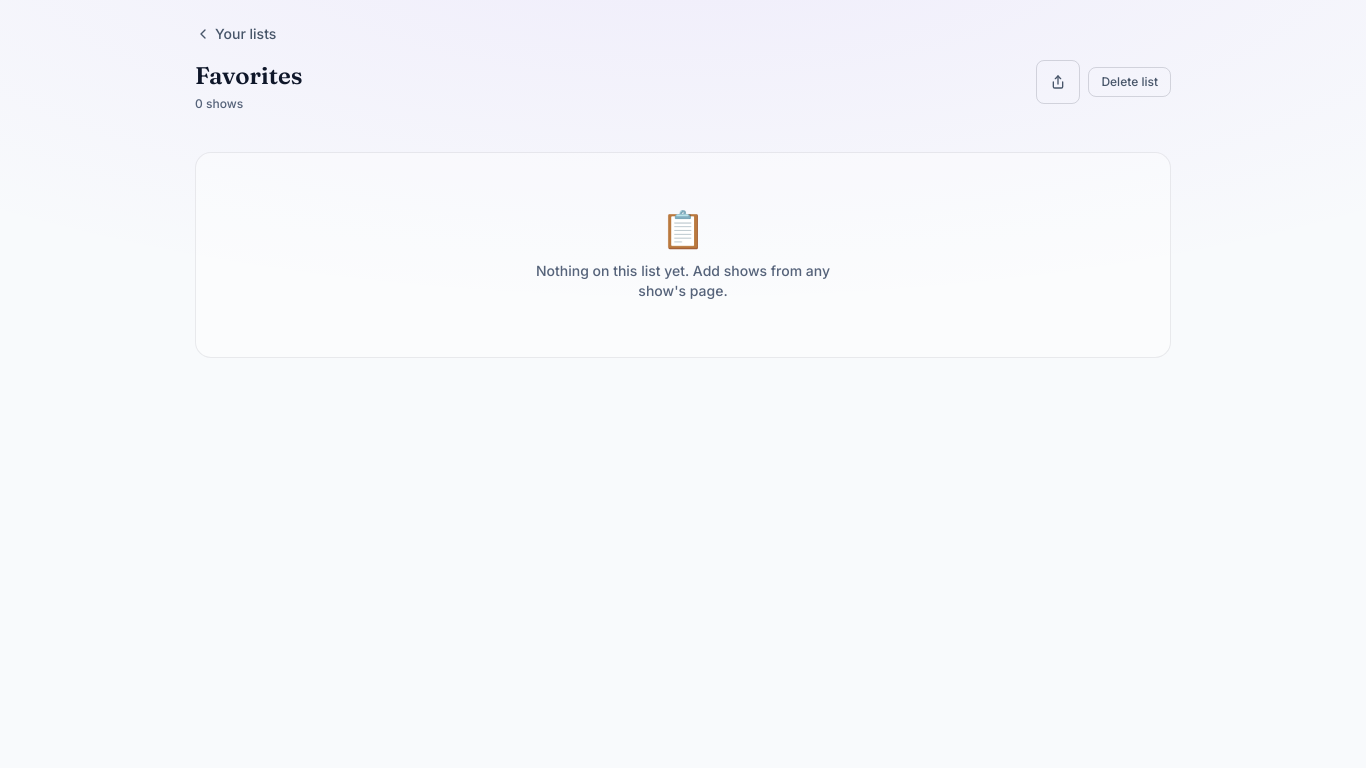
Test case: ListDetail › shows an error and stays on the page if delete fails
The width and height of the screenshot is (1366, 768).
Click the button "Delete list" at (1130, 82), box [1088, 67, 1171, 97]
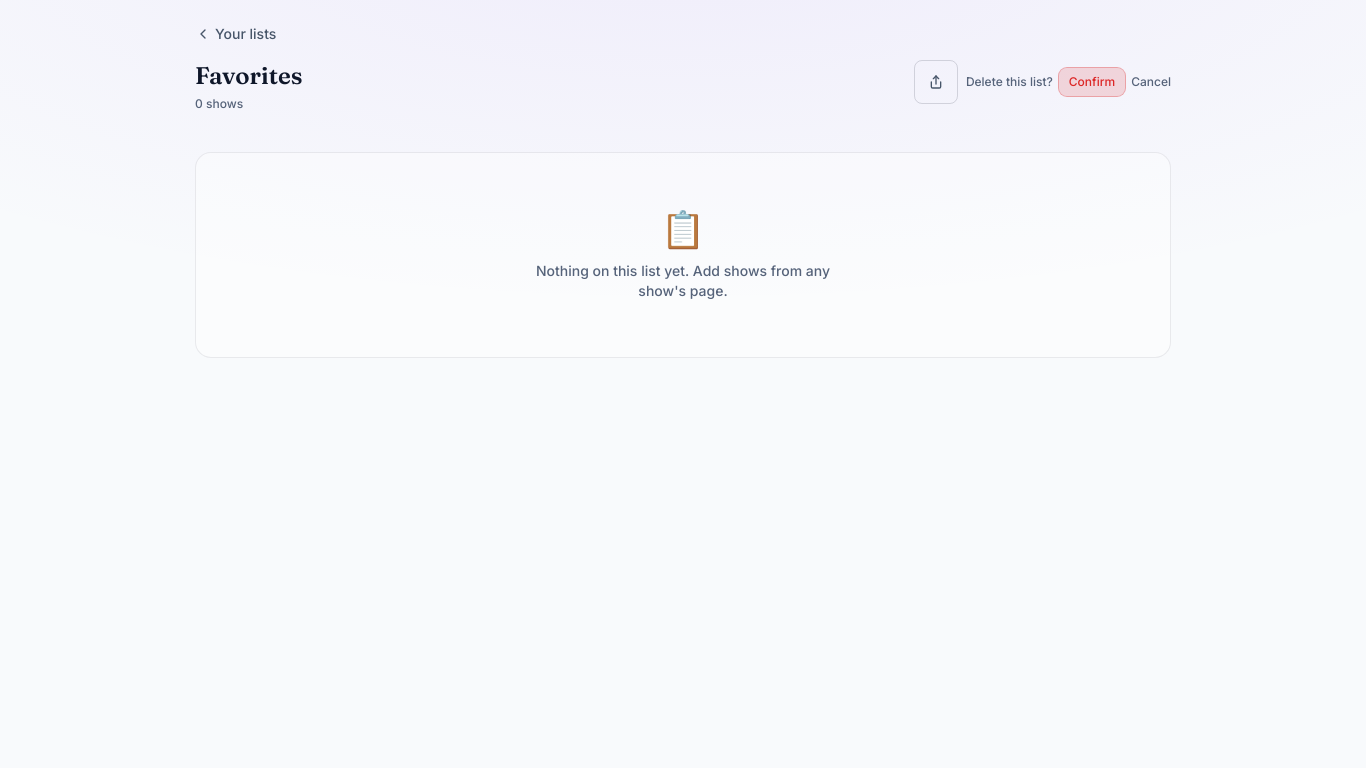
Click the button "Confirm" at (1092, 82), box [1059, 68, 1125, 96]
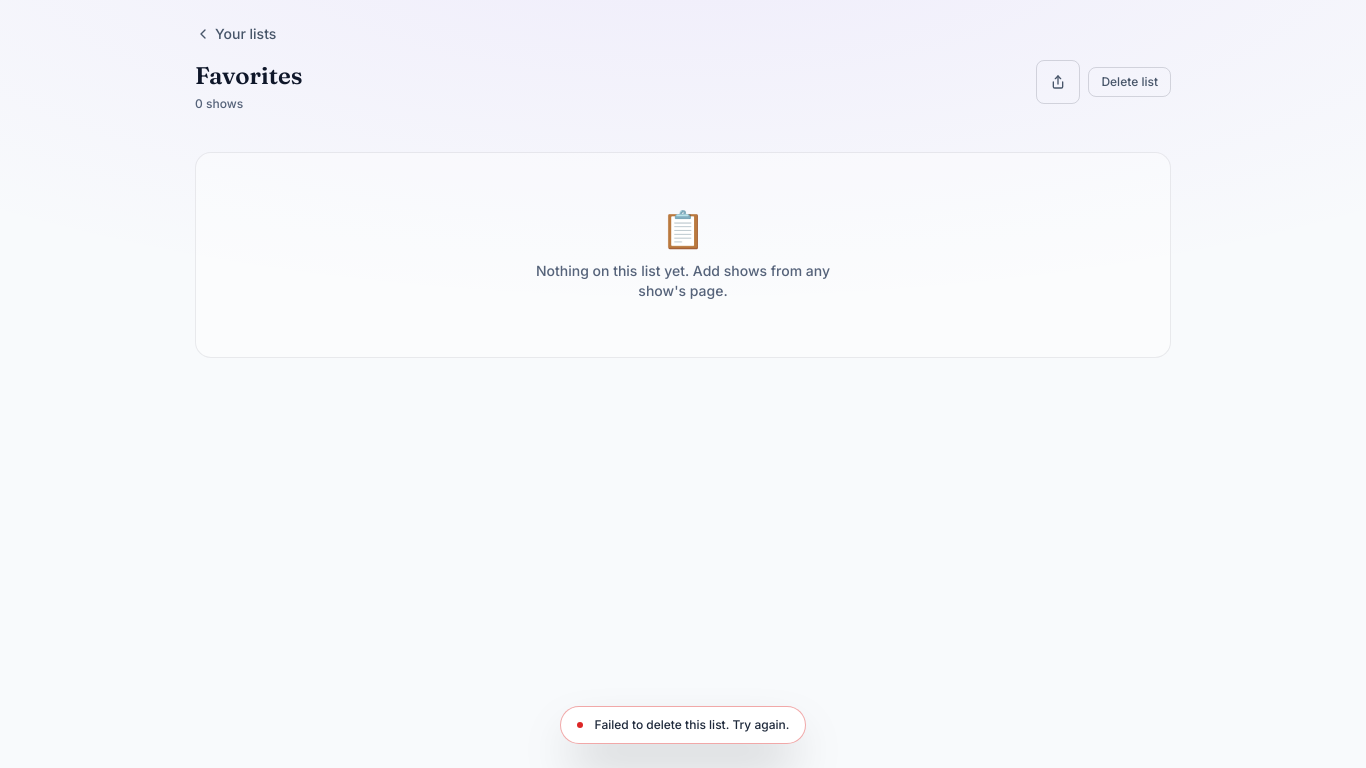
Check: the text "Failed to delete this list. Try again." is shown, box [595, 717, 789, 733]
